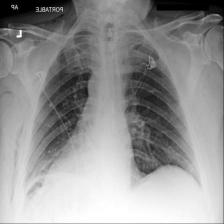normal: (20, 28, 205, 202)
